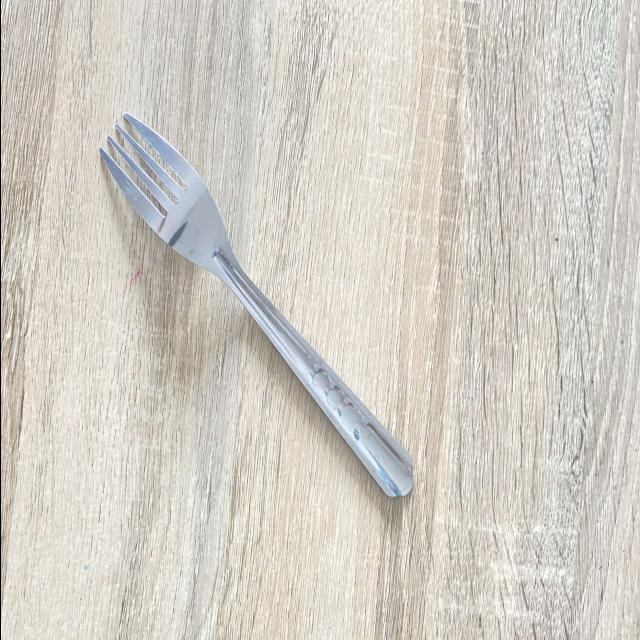fork: (86, 108, 428, 518)
